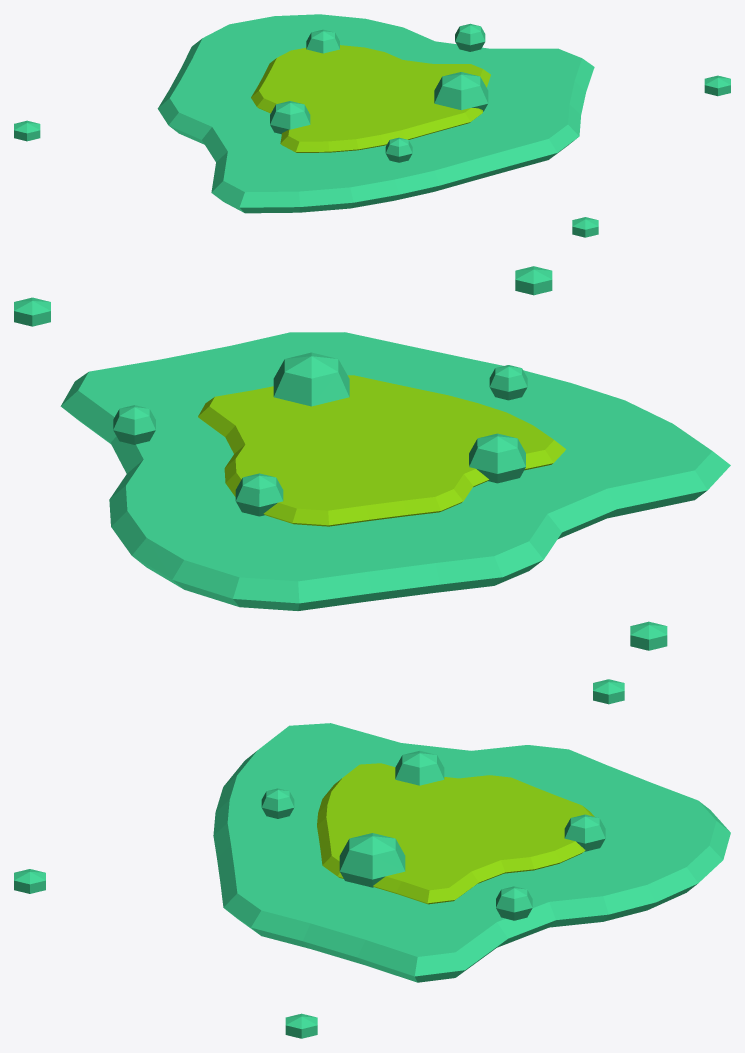
File: goo.obj
3 renders of one model, top to bottom at view 1: azimuth 30°, elevation 25°; view 2: azimuth 150°, elevation 25°; view 3: azimuth 270°, elevation 25°, orthographic. The views are drawn at different scales.
Size of the model in its own units: 3.51 by 0.303 by 3.03.
